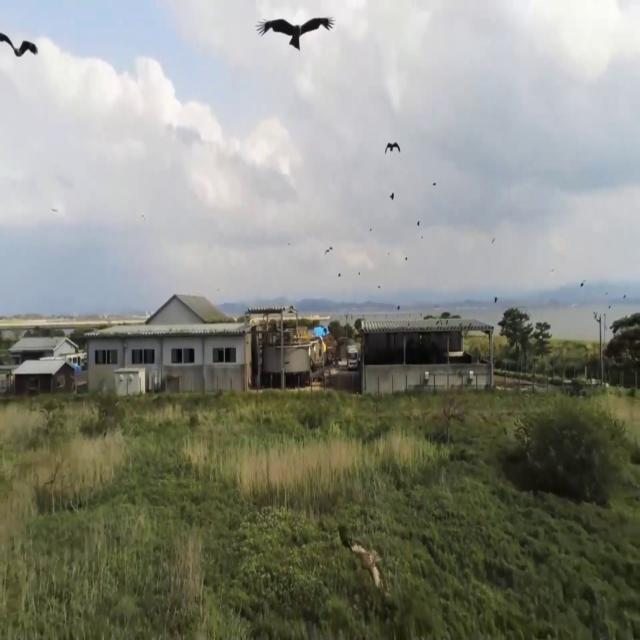bird: (257, 0, 334, 83), (0, 10, 40, 87), (276, 25, 314, 65), (384, 132, 401, 166), (324, 239, 334, 261)
